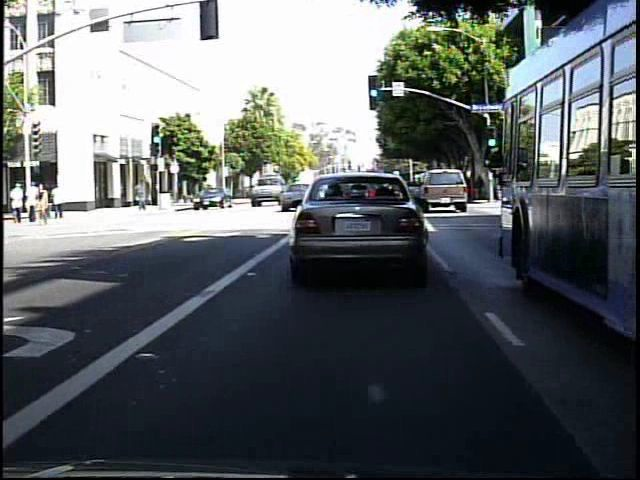person: (11, 181, 29, 226), (35, 183, 50, 228), (132, 177, 150, 214), (27, 180, 42, 224), (52, 181, 67, 221), (42, 184, 56, 220), (474, 169, 489, 202)
